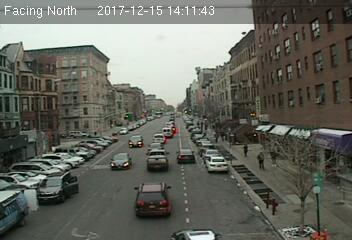car: (132, 182, 173, 217), (35, 172, 74, 201), (145, 149, 170, 170), (109, 152, 132, 171), (205, 155, 228, 173), (176, 149, 196, 163), (128, 135, 143, 148), (152, 134, 165, 142), (162, 127, 172, 136)
pedestrian: (269, 148, 280, 169), (256, 151, 264, 170), (243, 143, 249, 158)
truck: (1, 190, 28, 235)
